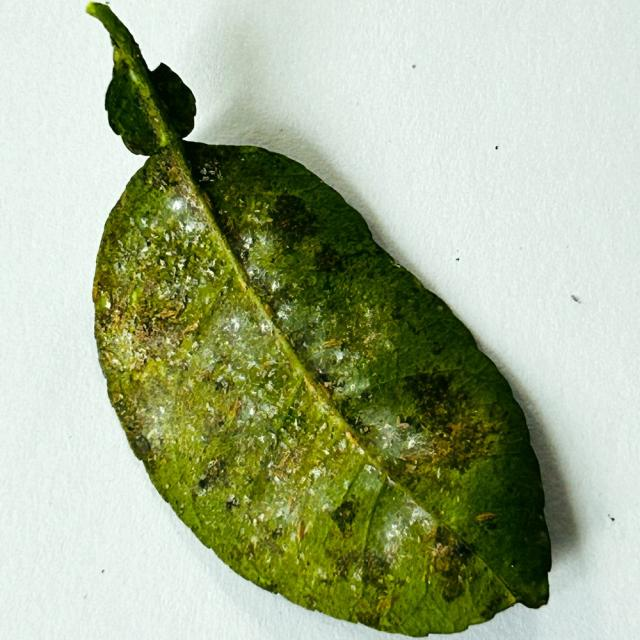Bacterial_Blight: (403, 383, 507, 471), (206, 375, 291, 478), (124, 348, 196, 446), (395, 368, 460, 423), (129, 311, 188, 364), (265, 193, 321, 247), (429, 535, 473, 599), (266, 435, 313, 490), (135, 355, 174, 403), (328, 493, 363, 536), (268, 403, 304, 444), (333, 548, 366, 582), (311, 241, 346, 273), (330, 498, 357, 533), (256, 531, 285, 560), (360, 553, 390, 581), (198, 459, 224, 491), (132, 433, 152, 459), (313, 369, 334, 391), (431, 542, 451, 562), (489, 401, 505, 419), (213, 378, 230, 393), (225, 495, 240, 512), (376, 597, 392, 612), (141, 317, 154, 334), (430, 343, 446, 355), (140, 226, 153, 239), (271, 526, 283, 539), (198, 476, 209, 490), (239, 249, 250, 262), (145, 239, 152, 247), (509, 559, 516, 567)
Lemon: (84, 1, 552, 639)
